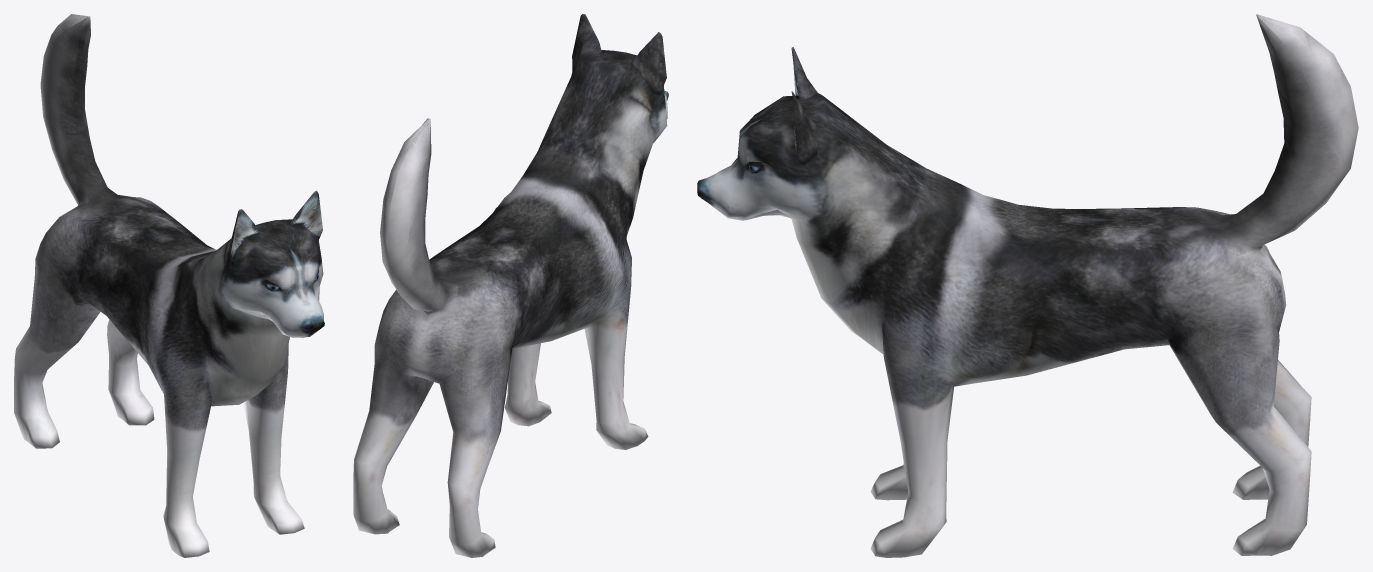
Rendered from siberian_husky.glb.
3 views of the same model, side by side, from view 1: azimuth 30°, elevation 25°; view 2: azimuth 150°, elevation 25°; view 3: azimuth 270°, elevation 25° (orthographic). The views are drawn at different scales.
Parts seen in each view (by area): view 1: Plane; view 2: Plane; view 3: Plane.
Boxes of the visible parts, x1=… form: Plane: x1=14, y1=14, x2=324, y2=557; Plane: x1=353, y1=14, x2=668, y2=557; Plane: x1=697, y1=14, x2=1358, y2=557.
Size of the model in its own units: 48.3 by 154 by 182.
Materials: 1 (1 with a texture image).
